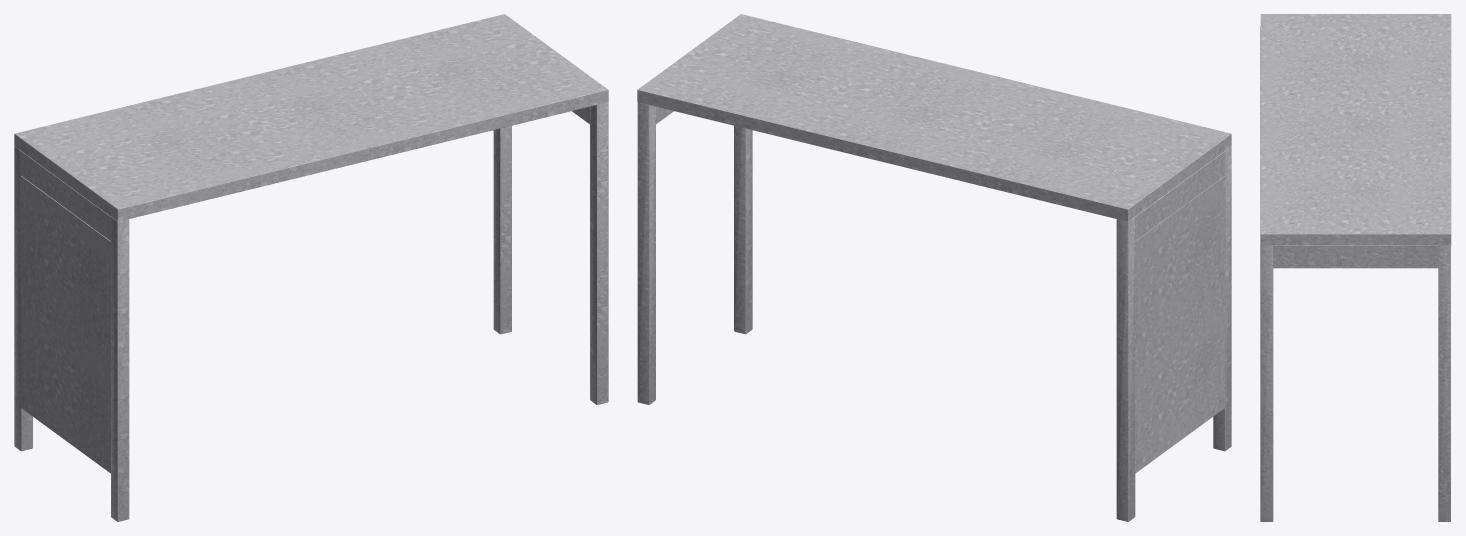
File: Bus_stop.fbx
The picture shows the model from 3 angles, left to right: view 1: azimuth 30°, elevation 25°; view 2: azimuth 150°, elevation 25°; view 3: azimuth 270°, elevation 25°; orthographic projection. The views are drawn at different scales.
Visible parts, largest first — view 1: Component_1_1; view 2: Component_1_1; view 3: Component_1_1.
Boxes of the visible parts, x1,y1,x2,y2 form: Component_1_1: (14,14,608,521); Component_1_1: (637,14,1231,521); Component_1_1: (1260,14,1451,521).
Size of the model in its own units: 410 by 250 by 150.
